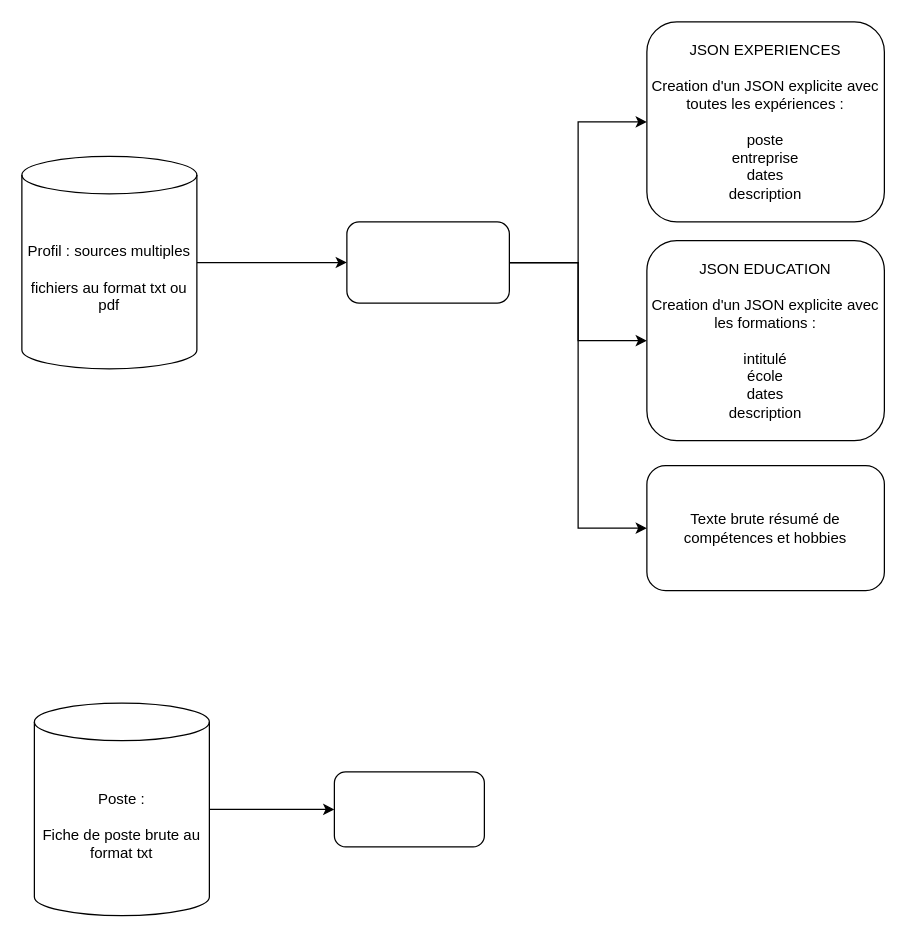
This 906x938 diagram has some shape labels left out. Each missing label, with the centre of its shape:
fiche de poste condensée en max 500 mots dans la même langue: pixel 408 809
Mise en commun en un seul fichier exhaustif txt: pixel 427 262
